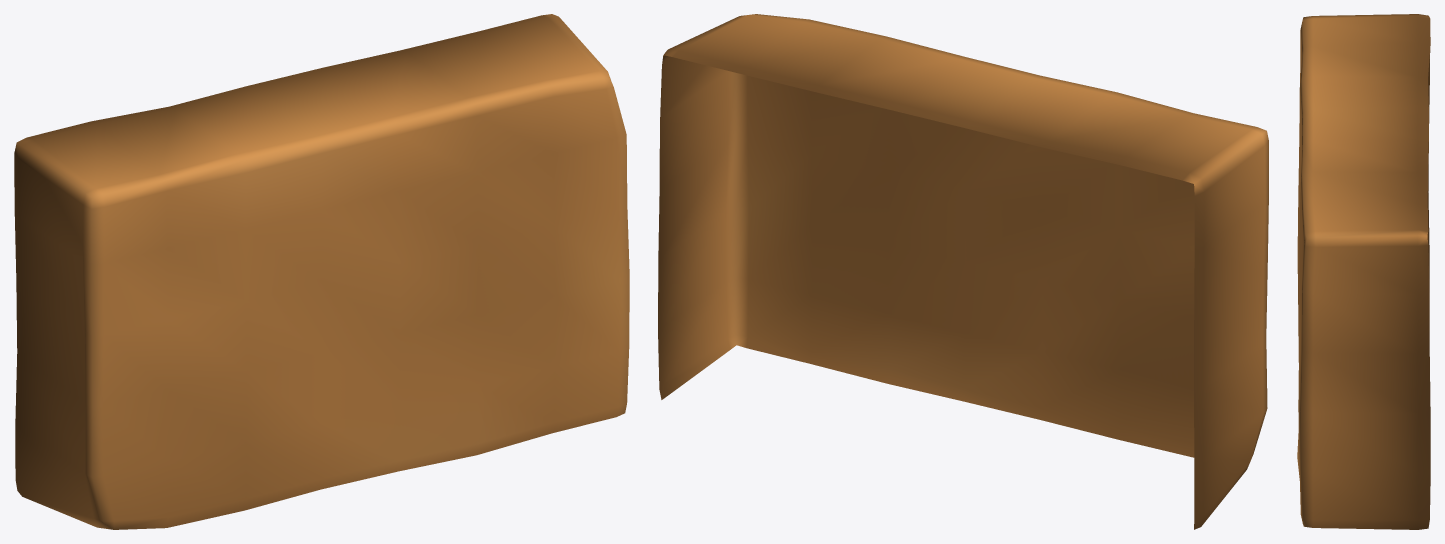
The model's file is block_m2.glb.
3 renders of one model, left to right at view 1: azimuth 30°, elevation 25°; view 2: azimuth 150°, elevation 25°; view 3: azimuth 270°, elevation 25°, orthographic. The views are drawn at different scales.
Visible parts, largest first — view 1: block_m2; view 2: block_m2; view 3: block_m2.
Boxes of the visible parts, x1,y1,x2,y2 form: block_m2: [14, 14, 629, 529]; block_m2: [658, 14, 1268, 529]; block_m2: [1297, 14, 1430, 529].
Size of the model in its own units: 1.61 by 1 by 0.4065.
